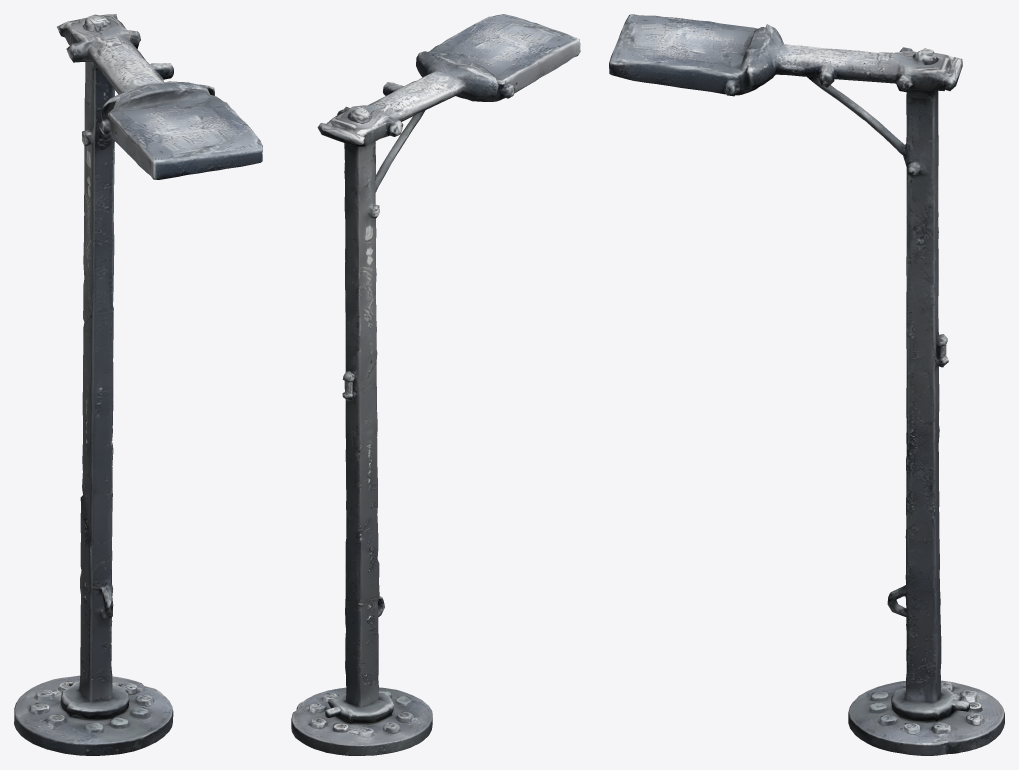
The model's file is lamp_post.fbx.
The picture shows the model from 3 angles, left to right: view 1: azimuth 30°, elevation 25°; view 2: azimuth 150°, elevation 25°; view 3: azimuth 270°, elevation 25°; orthographic projection. The views are drawn at different scales.
Visible parts, largest first — view 1: lamp_post; view 2: lamp_post; view 3: lamp_post.
Part boxes in pixels (x1,y1,x2,y2): lamp_post: [14, 14, 262, 755]; lamp_post: [291, 14, 580, 755]; lamp_post: [609, 14, 1004, 755].
Bounding box in the file's own units: 0.9761 × 4 × 2.13.
1 material, 1 textured.
